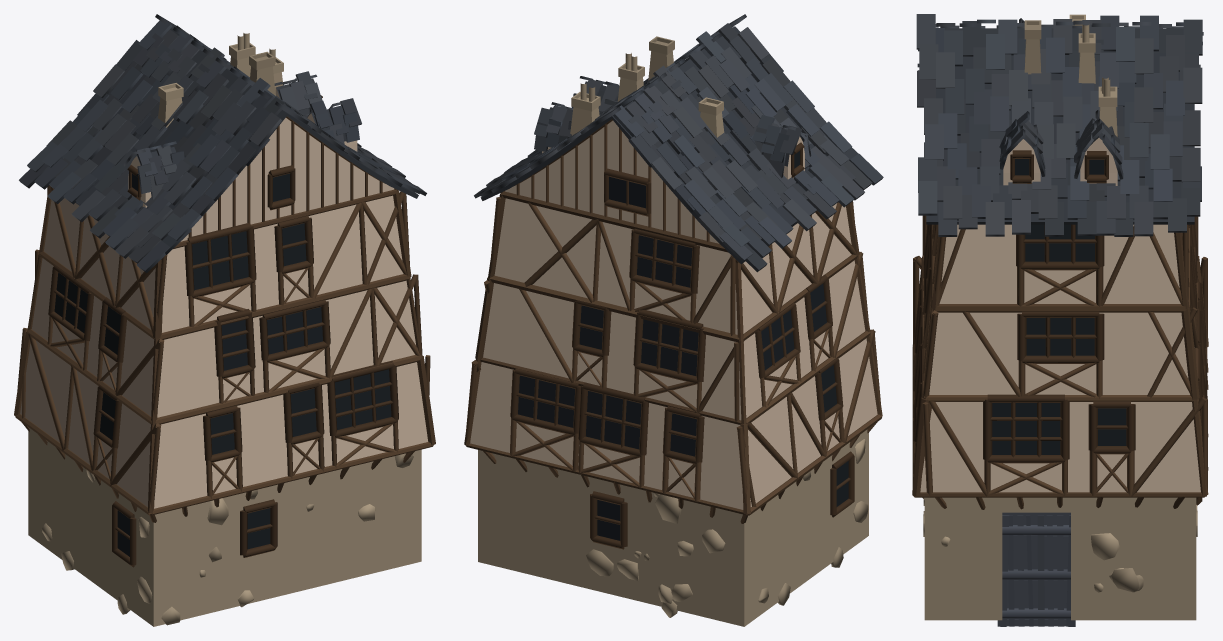
Rendered from house_22.glb.
The picture shows the model from 3 angles, left to right: view 1: azimuth 30°, elevation 25°; view 2: azimuth 150°, elevation 25°; view 3: azimuth 270°, elevation 25°; orthographic projection. The views are drawn at different scales.
Visible parts, largest first — view 1: house_22; view 2: house_22; view 3: house_22.
Part boxes in pixels (left/top/right/bottom): house_22: left=14, top=14, right=435, bottom=626; house_22: left=464, top=14, right=883, bottom=626; house_22: left=912, top=14, right=1208, bottom=626.
Bounding box in the file's own units: 6.29 × 10.45 × 5.07.
